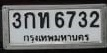num3: (11, 12, 22, 29)
txt01: (23, 11, 36, 30)
txt18: (37, 11, 50, 29)
